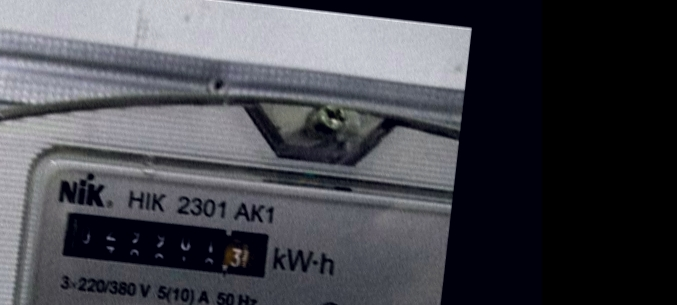0: (176, 227, 192, 253), (75, 222, 93, 245)
1: (201, 230, 216, 255)
2: (100, 222, 119, 243)
3: (226, 244, 242, 268)
9: (151, 226, 167, 249), (126, 223, 141, 246)
screen: (47, 199, 279, 289)
